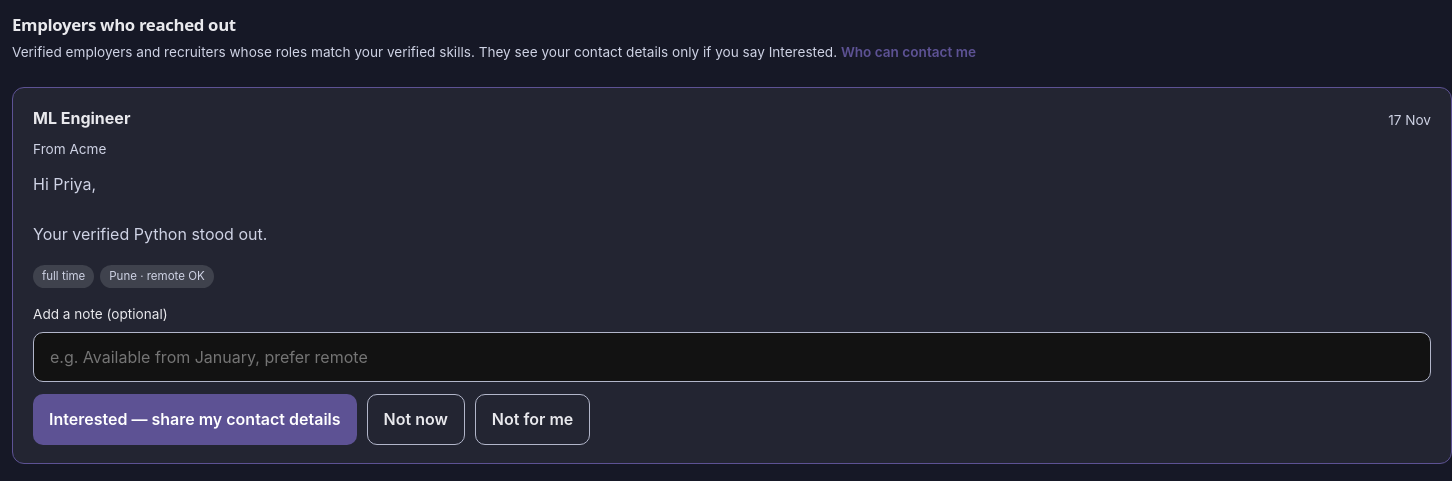
OutreachInbox › Interested sends the reply with the note and moves the message to earlier
Check: the text "ML Engineer" is shown, box [33, 106, 130, 131]
Check: the text "Hi Priya, Your verified Python stood out." is shown, box [33, 174, 267, 244]
Type "From Jan" into the field labelled "Add a note (optional)".
click(732, 357); type("From Jan")  # box [33, 332, 1431, 382]
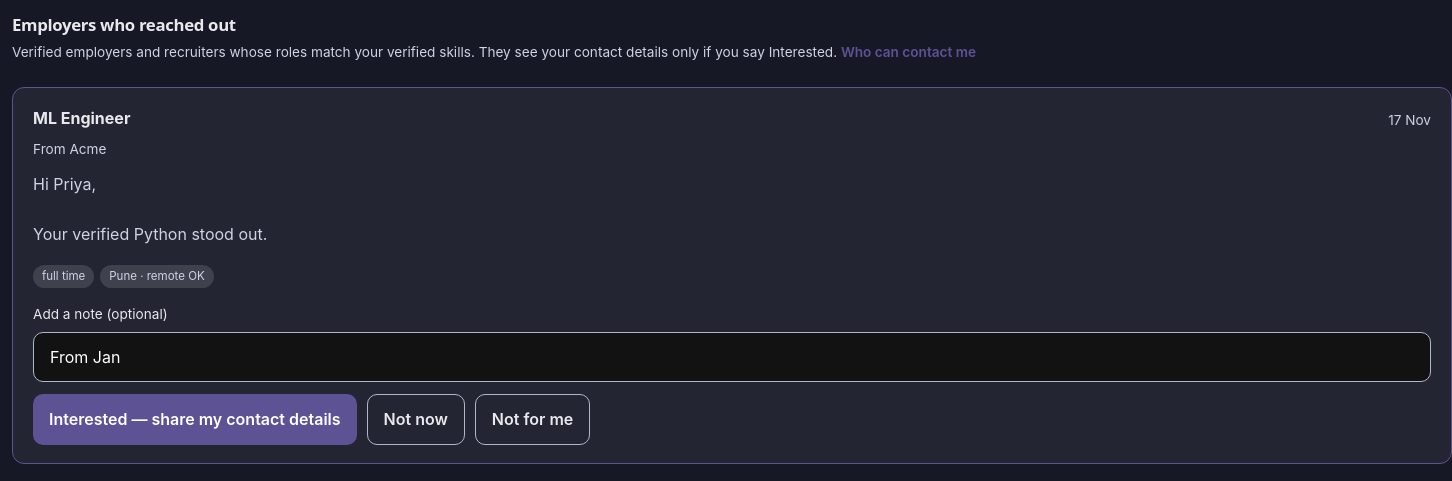
Click the button "Interested — share my contact details".
click(195, 420)  # box [33, 394, 357, 445]
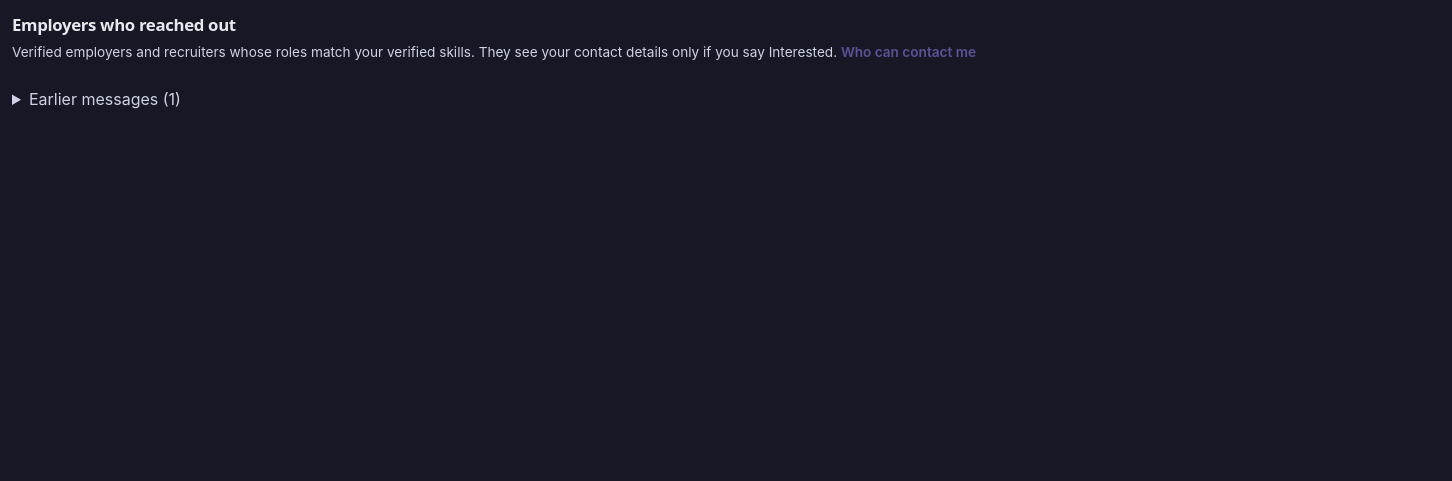
Check: the heading "Earlier messages (1)" is shown, box [29, 89, 181, 109]
